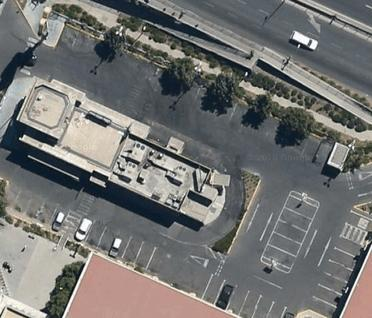parkingspot: (53, 22, 337, 169), (71, 214, 159, 273), (307, 235, 367, 318), (199, 272, 301, 318), (261, 194, 321, 271), (0, 181, 72, 236), (344, 210, 372, 236)
